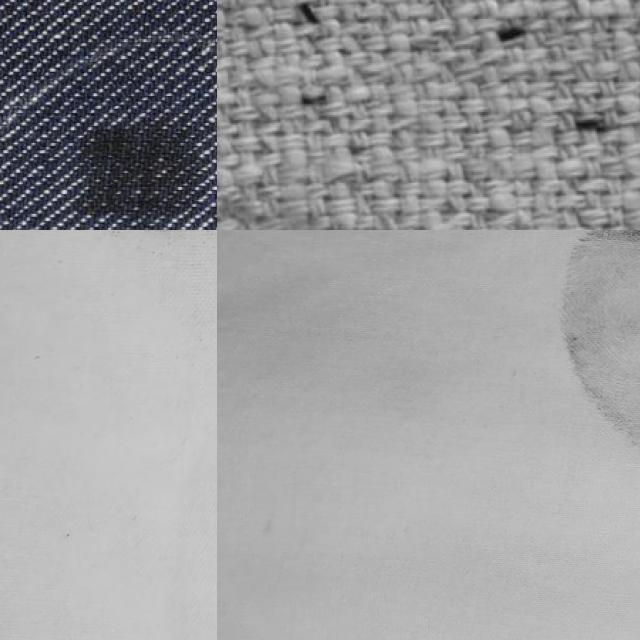Hole: (463, 230, 640, 573)
